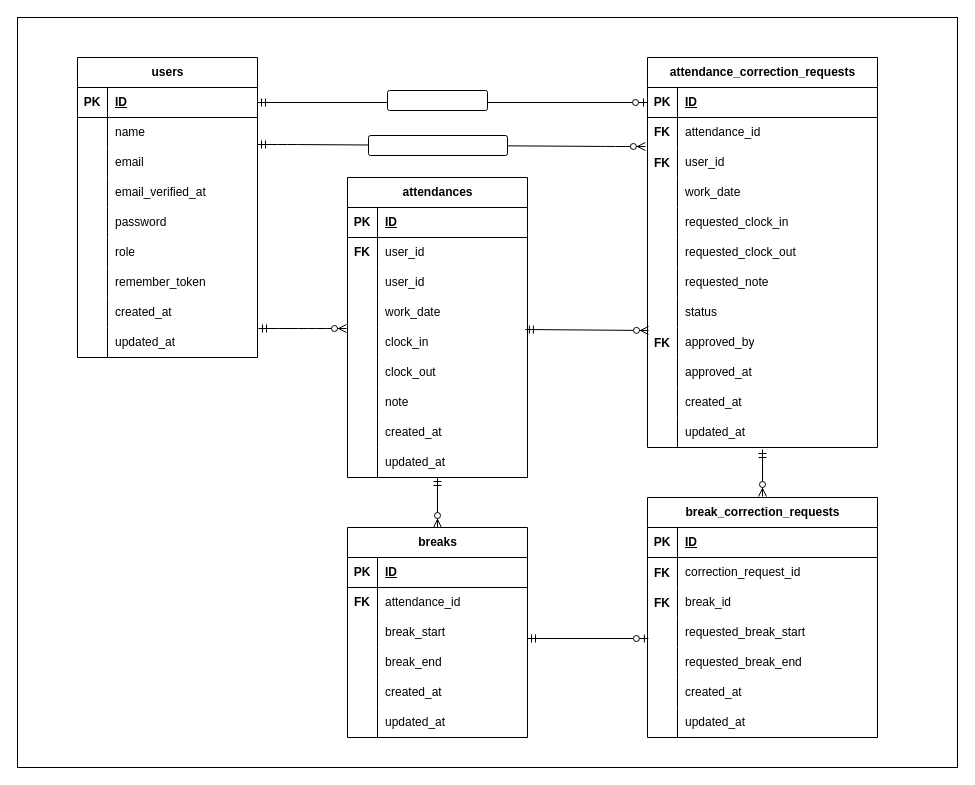
Image size: 975x785. Some labels were removed from this diagram. The centre of each missing label's shape, as x and y in pixels:
"承認者(approved_by)" belongs at (438,145).
"申請者(user_id)" belongs at (437,100).
